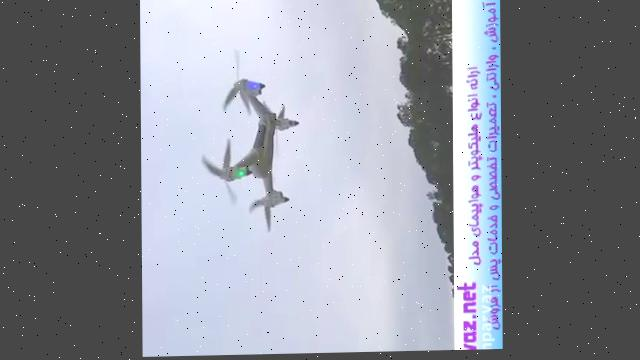drone: (195, 44, 300, 240)
